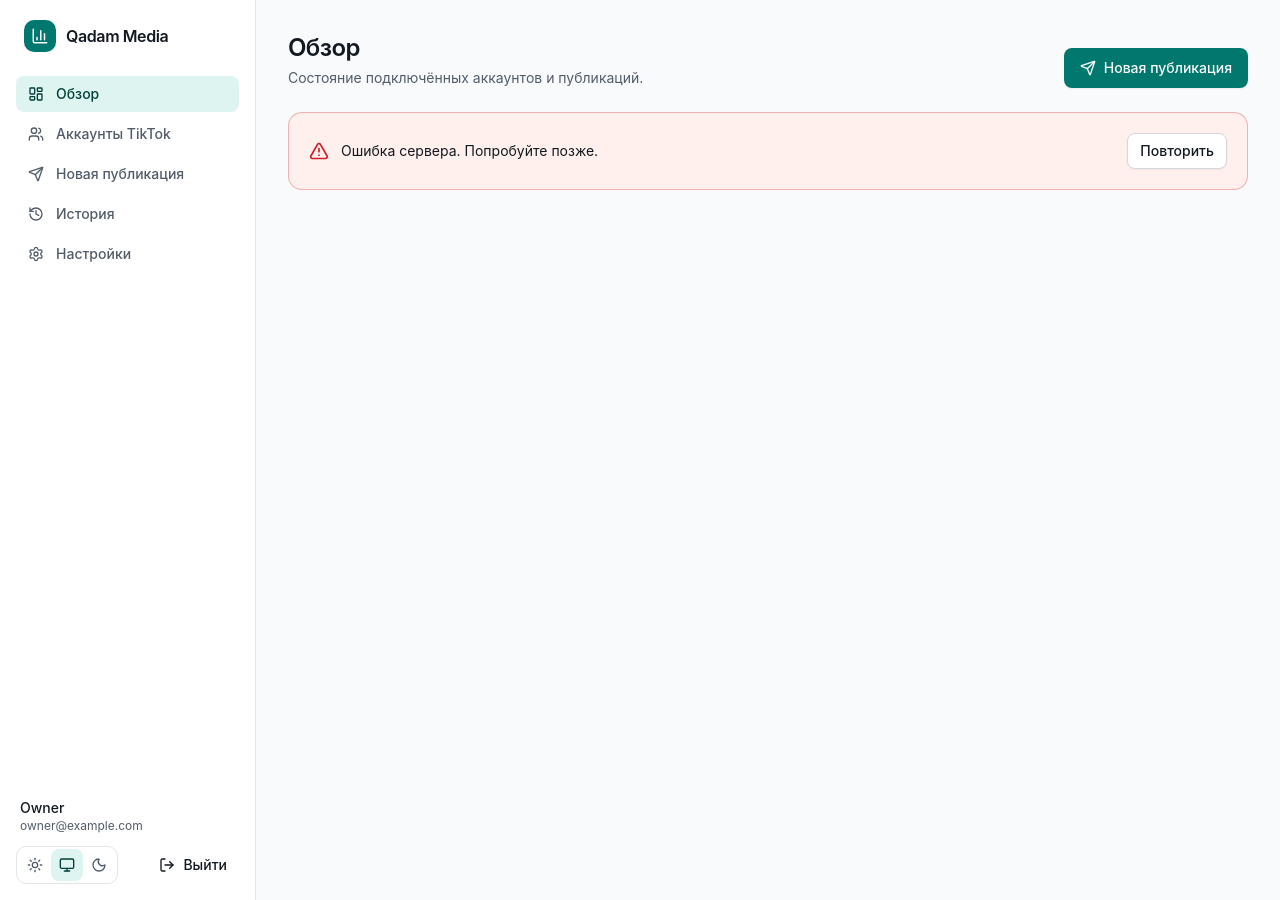
Test: dashboard › offers a retry when loading fails
The image size is (1280, 900).
Expected: the message shows "Ошибка сервера", [341,142,598,159]
Click the button "Повторить".
click(1177, 151)  # box [1127,133,1227,169]
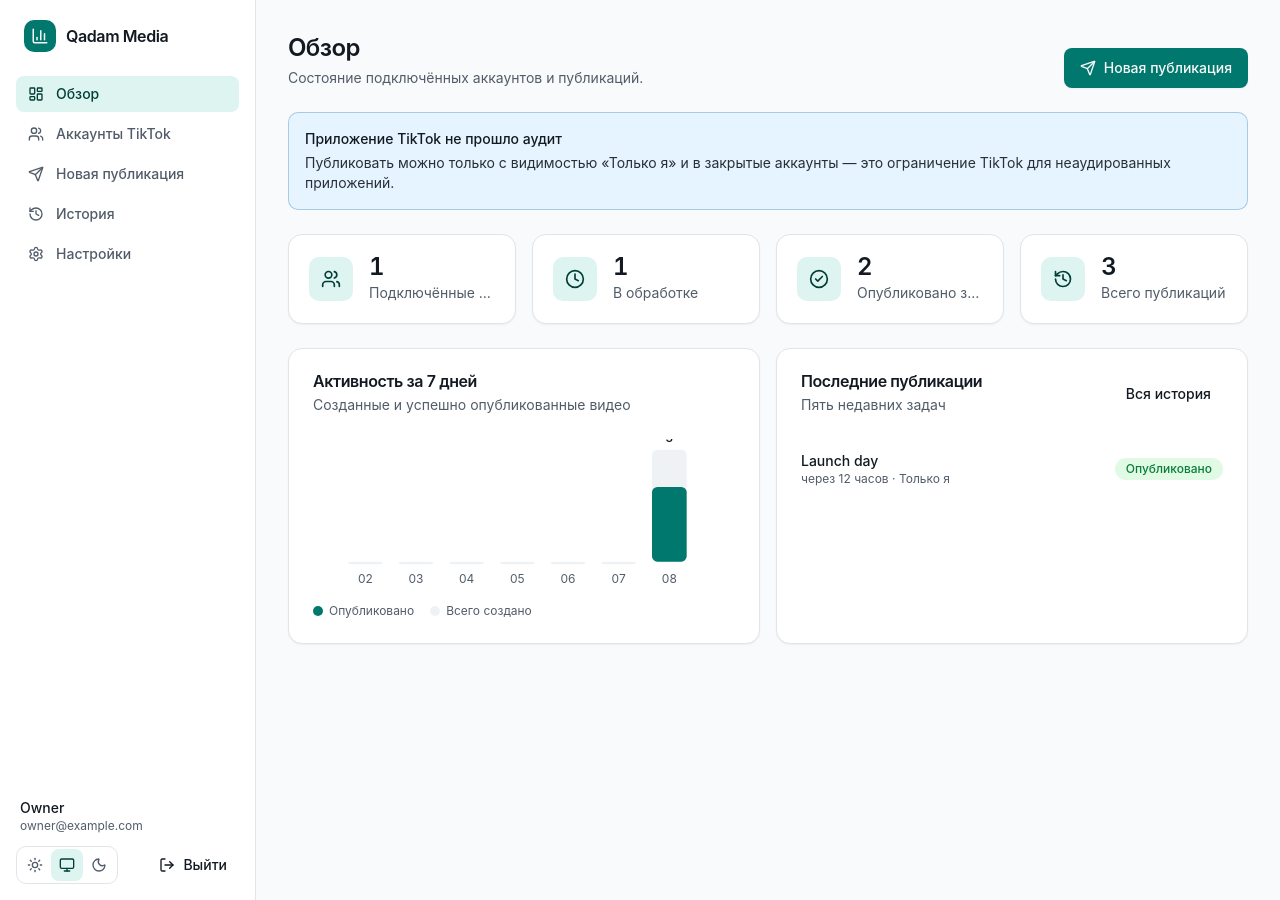
Expected: the text "Всего публикаций" is shown, [1101,283,1225,303]
